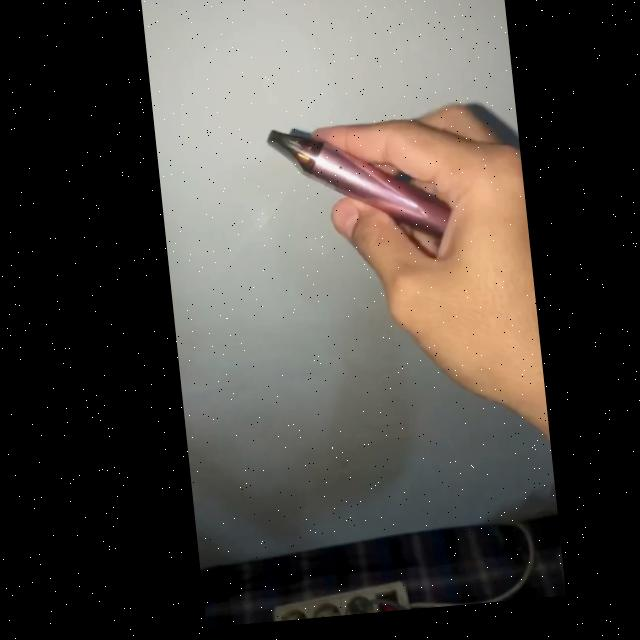vape: (262, 122, 448, 255)
